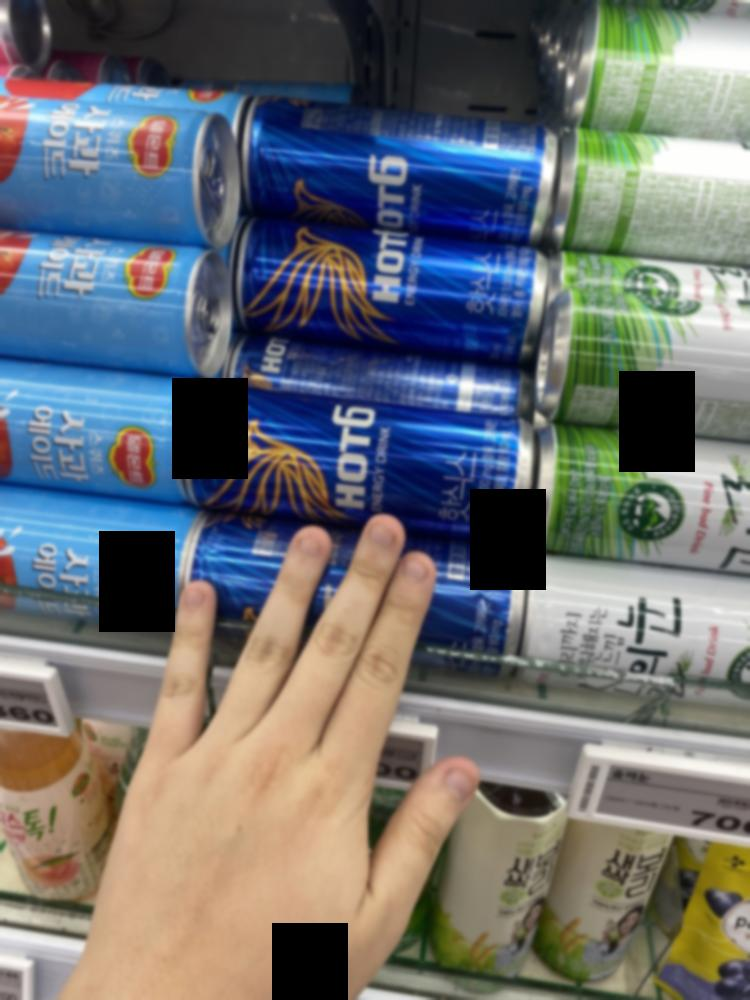hotsix_org: (201, 378, 538, 534), (228, 213, 553, 359)
